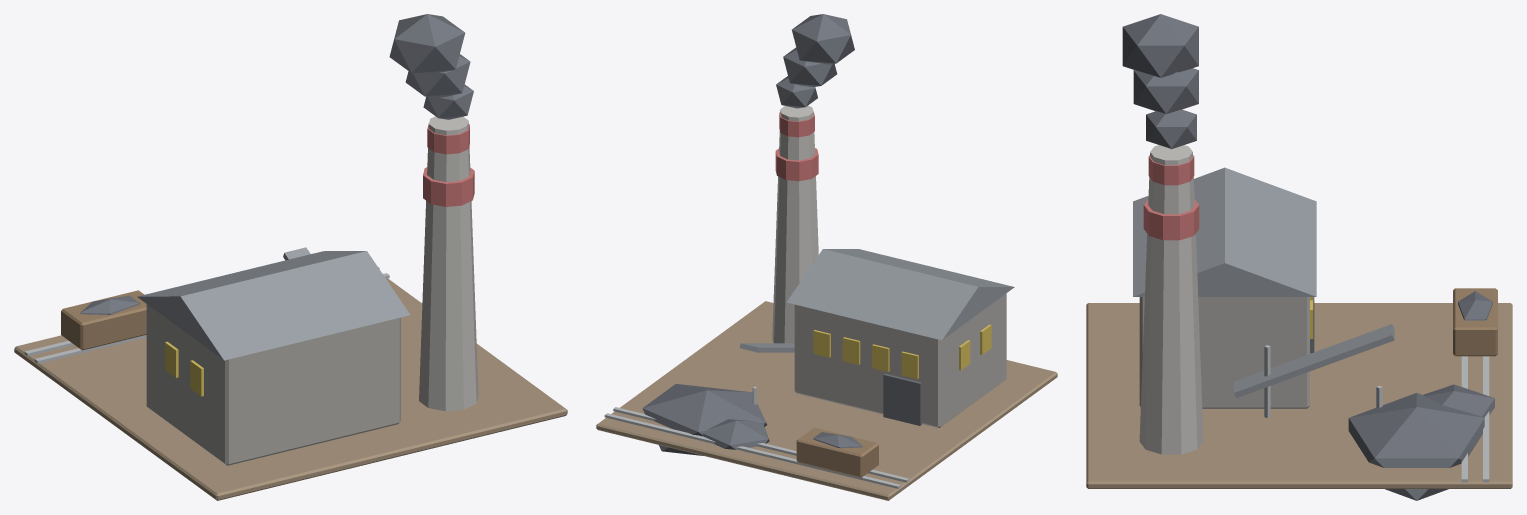
The model's file is energia__usina_carvao.glb.
3 renders of one model, left to right at view 1: azimuth 30°, elevation 25°; view 2: azimuth 150°, elevation 25°; view 3: azimuth 270°, elevation 25°, orthographic. The views are drawn at different scales.
Visible parts, largest first — view 1: energia__usina_carvao; view 2: energia__usina_carvao; view 3: energia__usina_carvao.
Part boxes in pixels (<box>): energia__usina_carvao: <box>14,14,567,500</box>; energia__usina_carvao: <box>596,14,1057,500</box>; energia__usina_carvao: <box>1086,14,1512,500</box>.
Bounding box in the file's own units: 4 × 4.8 × 4.
